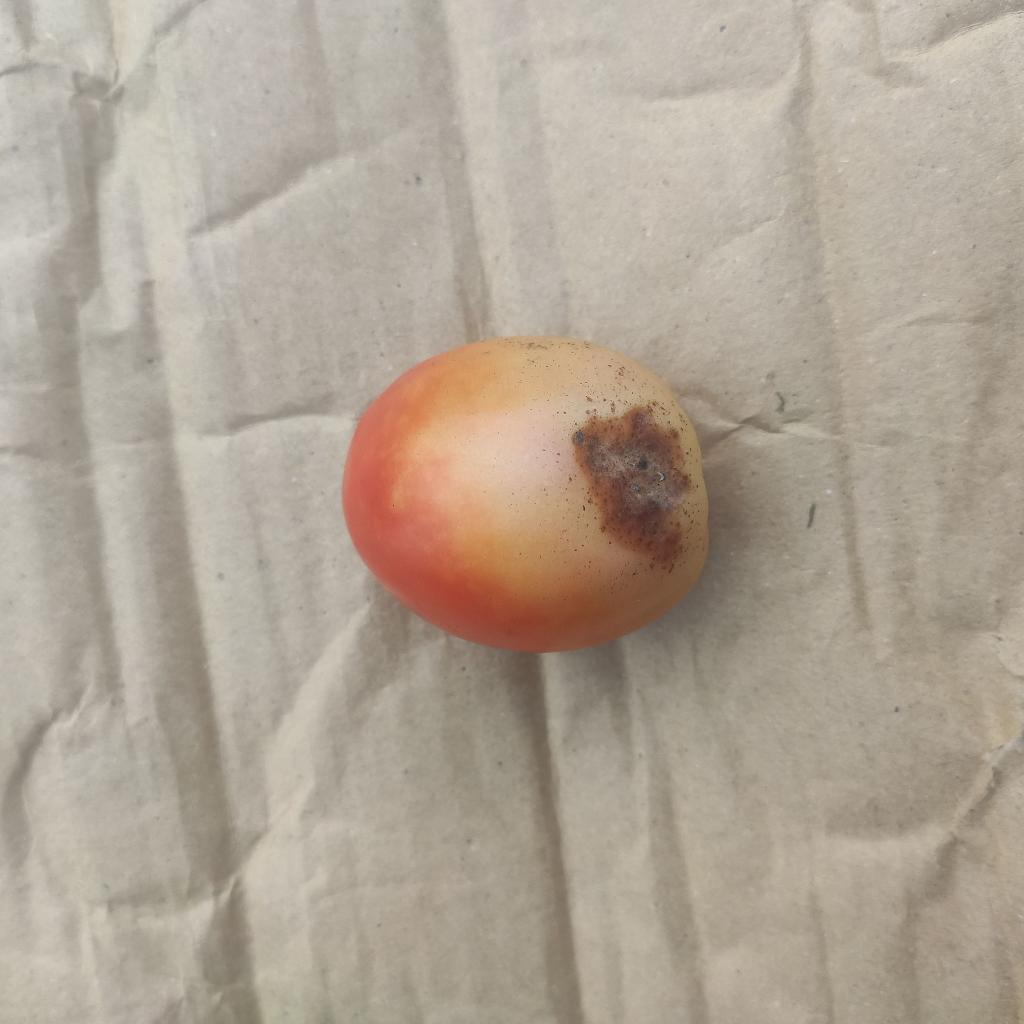bruise_discoloration: (382, 336, 712, 637)
rot_mold_decay: (573, 402, 695, 571)
tomato: (343, 337, 707, 652)
